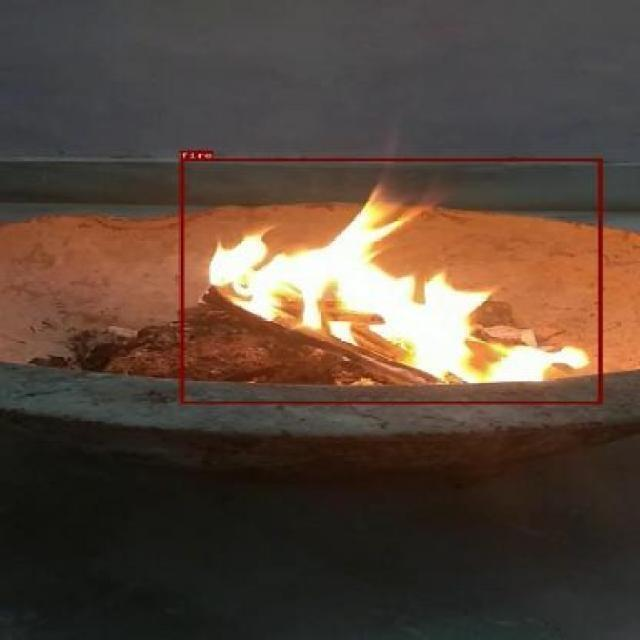fire: (179, 158, 602, 404)
